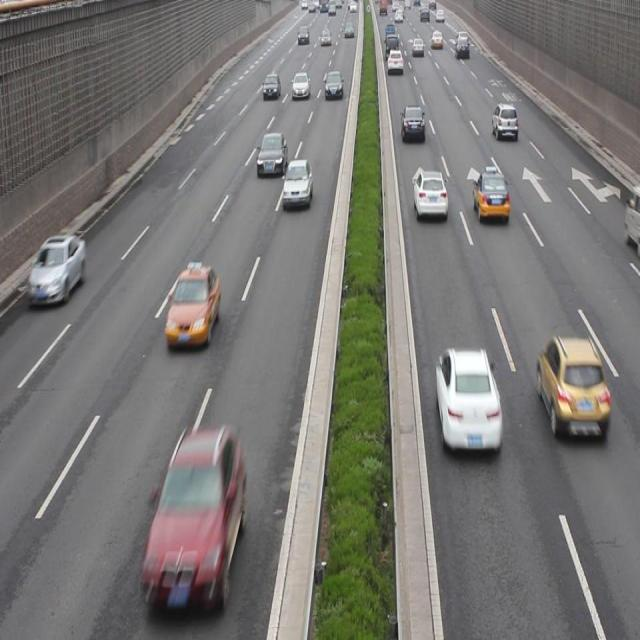car: (140, 425, 247, 608), (435, 344, 502, 462), (537, 334, 609, 442), (165, 260, 220, 348), (28, 230, 88, 305), (472, 167, 508, 226), (412, 168, 448, 221), (256, 132, 288, 179), (281, 160, 312, 206), (399, 104, 424, 143), (491, 104, 515, 140)
truck: (624, 185, 640, 245)
